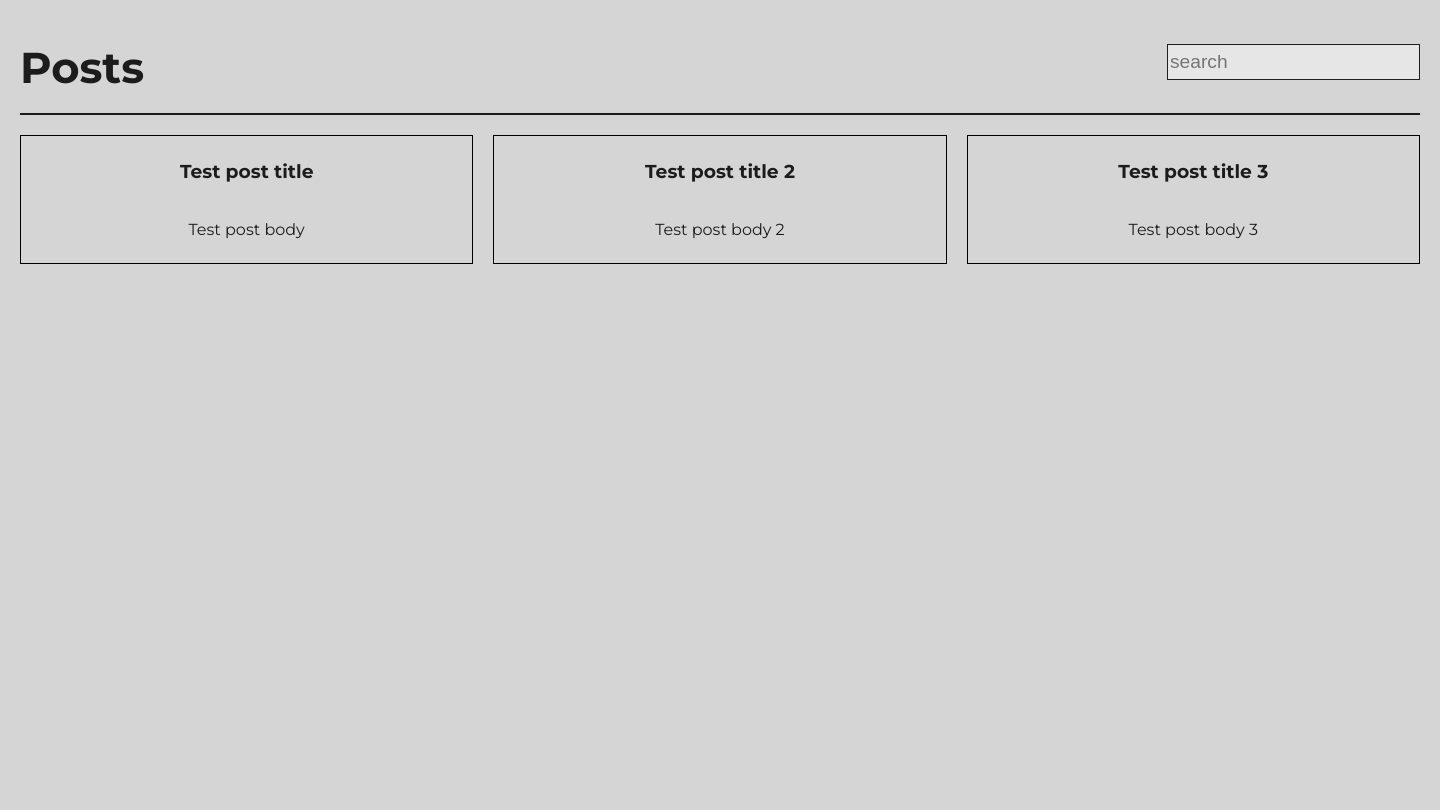
Test case: Posts › should show the Details Modal when clicking a post
Check: the heading "Test post title 2" is shown, box [645,160,795,184]
Check: the heading "Test post title 3" is shown, box [1118,160,1268,184]
Click the heading "Test post title" at (247, 172), box [180,160,313,184]
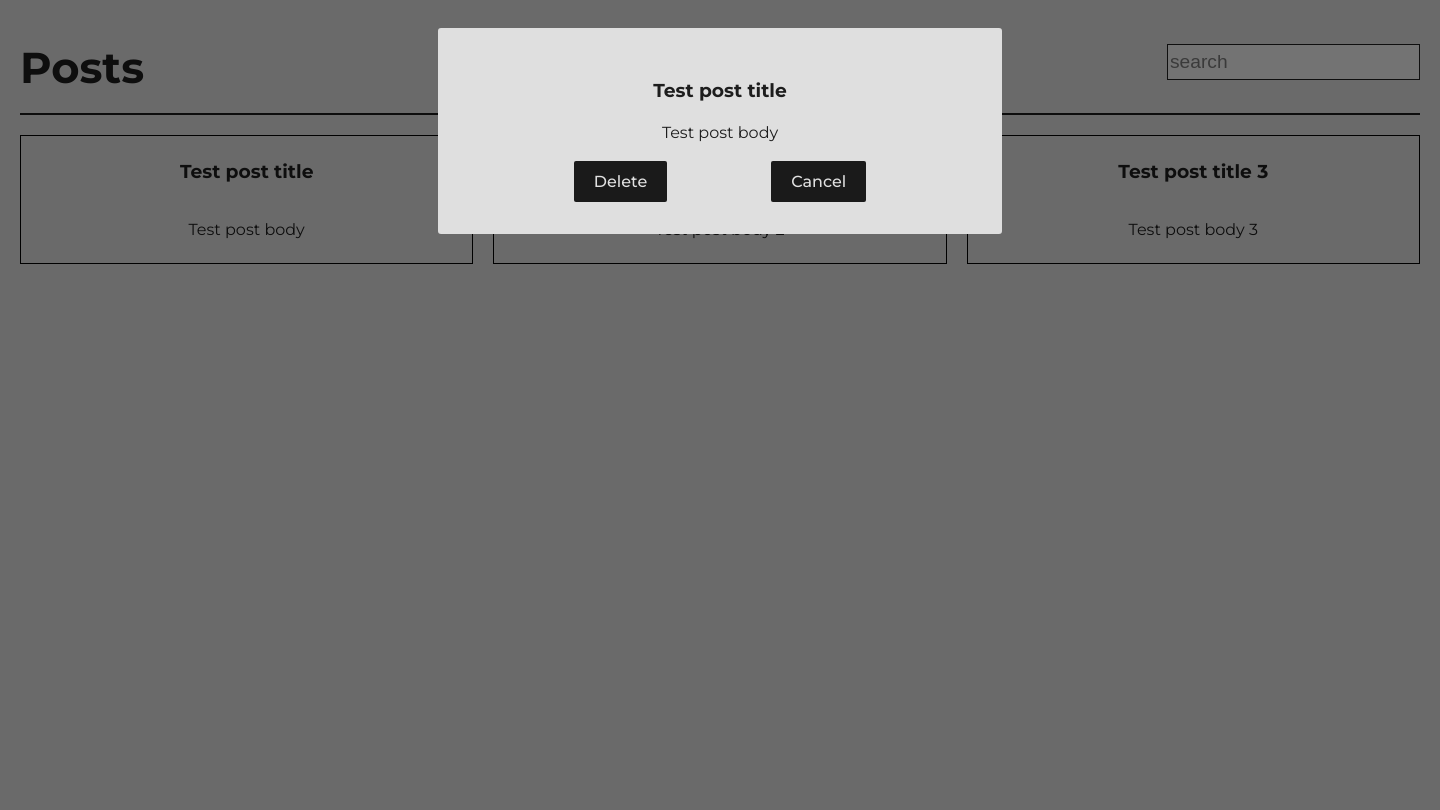
Check: the dialog with test id "detailsModal" is shown, box [438,28,1002,234]
